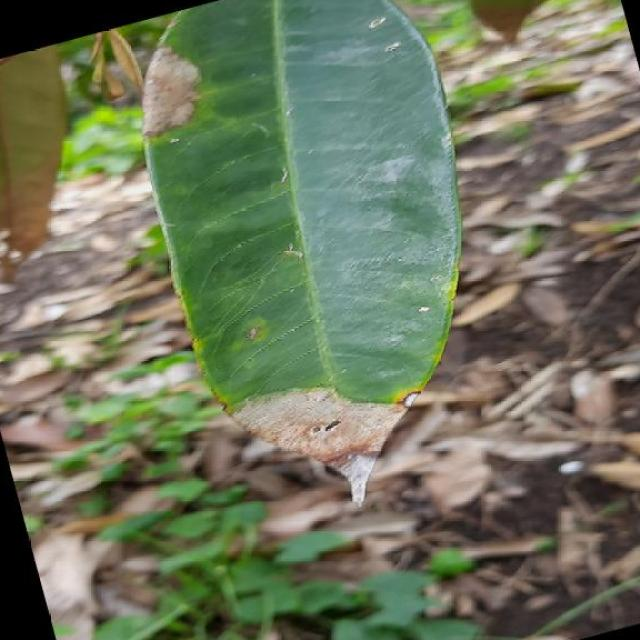Leaf Blight: (98, 0, 556, 552)
